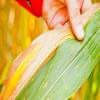Corn Gray leaf spot: (12, 31, 75, 99)
